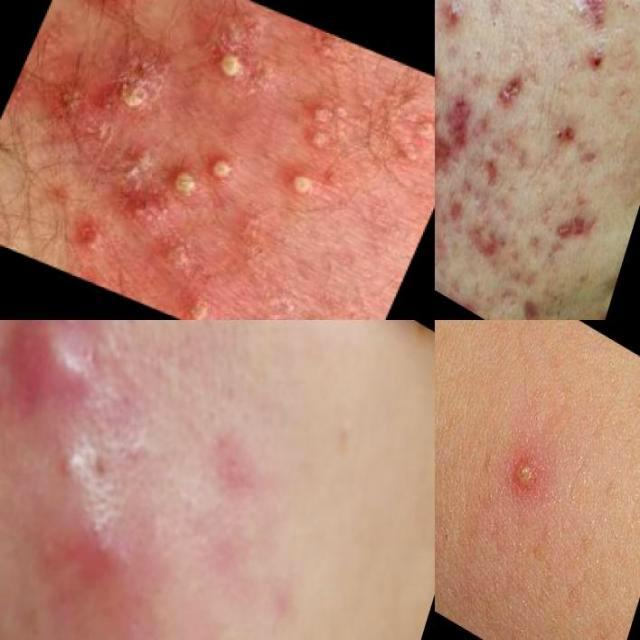Pimples: (18, 476, 158, 622), (0, 320, 127, 456), (83, 24, 190, 134), (486, 418, 574, 542), (270, 76, 362, 162), (15, 420, 100, 502), (190, 28, 274, 104), (45, 200, 123, 266), (266, 147, 342, 212), (380, 98, 434, 174), (461, 203, 514, 274), (464, 132, 516, 204), (153, 153, 213, 210), (441, 84, 484, 156), (491, 53, 529, 125), (196, 141, 249, 192), (557, 198, 600, 260), (554, 0, 617, 40), (570, 124, 608, 180), (472, 0, 514, 48), (454, 38, 490, 86), (435, 108, 453, 202), (177, 287, 221, 320), (605, 0, 640, 38), (554, 284, 590, 320), (435, 44, 448, 119), (511, 294, 548, 320)
